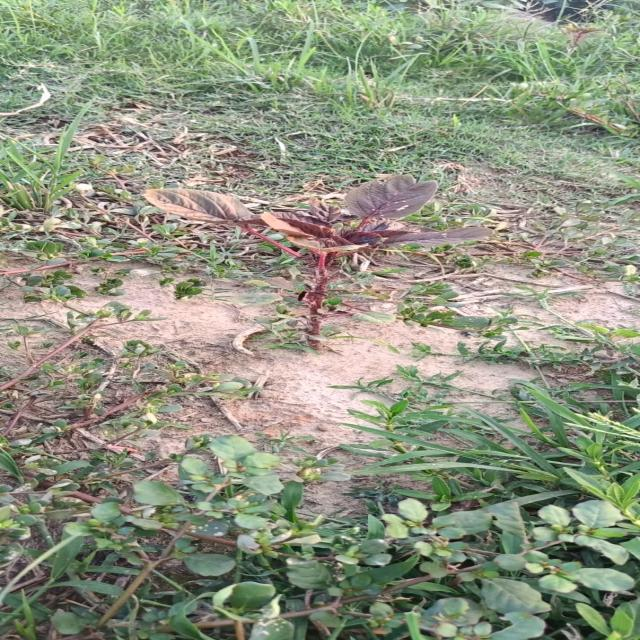plant: (143, 175, 491, 333)
